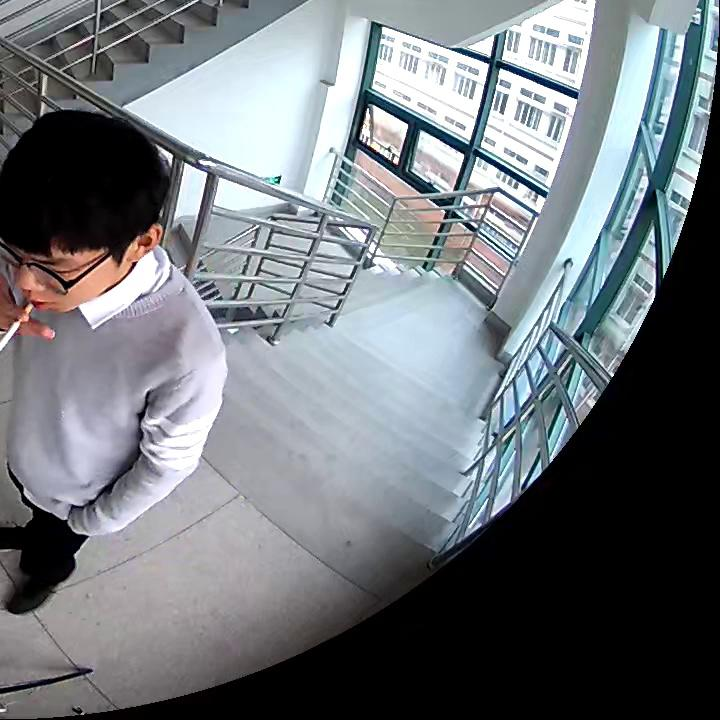mouthsmoke: (1, 105, 172, 352)
